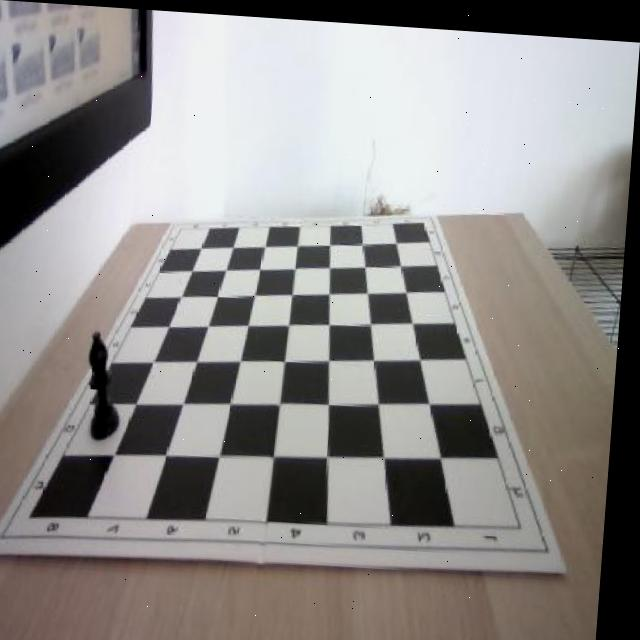bishop: (87, 327, 132, 440)
